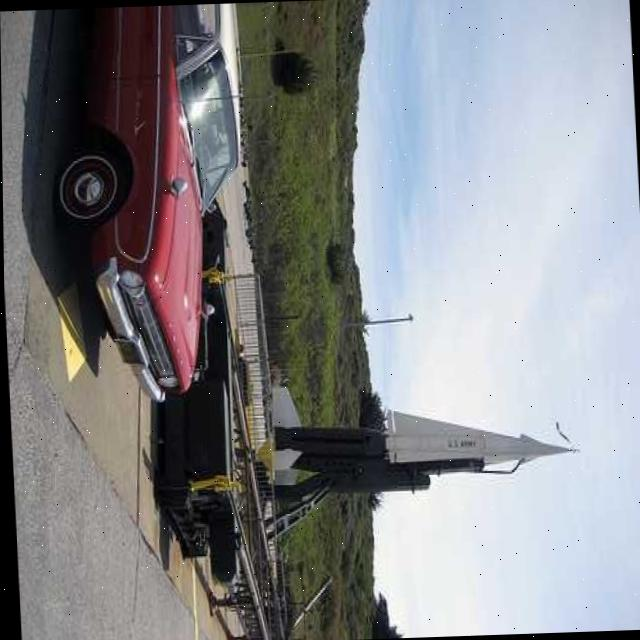missile: (377, 390, 579, 476)
